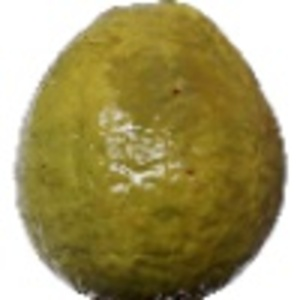goiaba: (12, 5, 290, 297)
